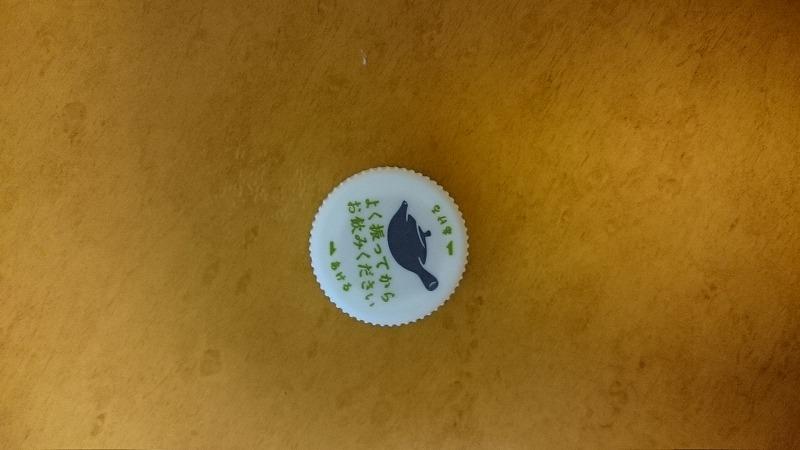A: (300, 160, 482, 333)
